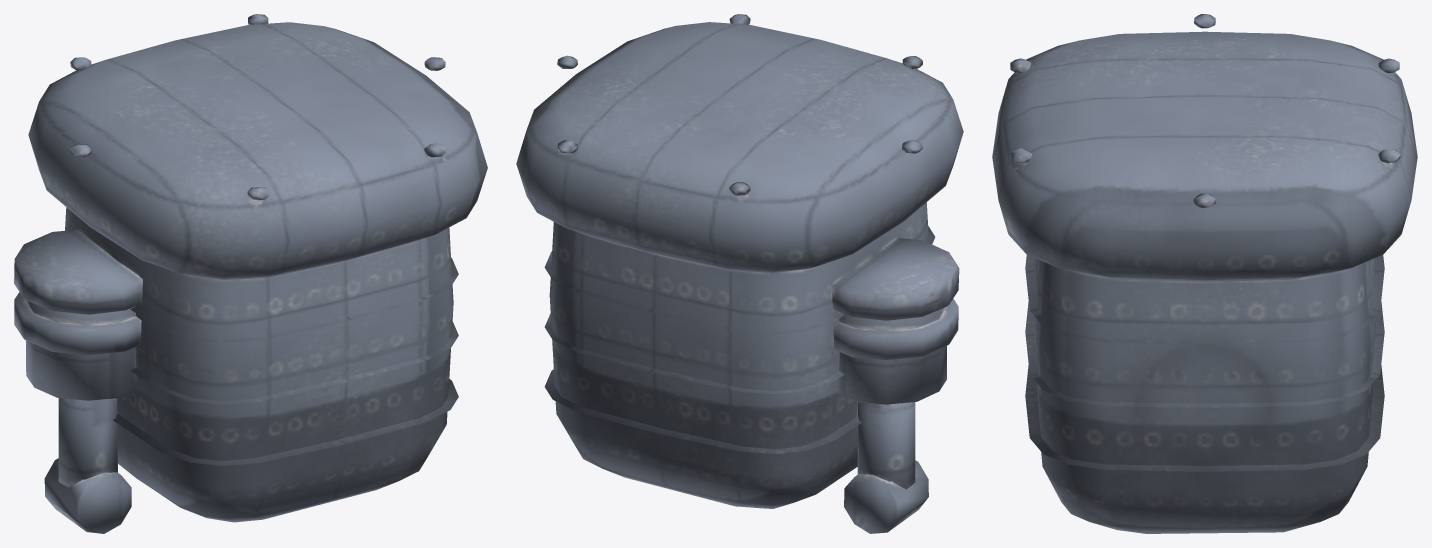
Rendered from MatonImp_BrazoArriba.fbx.
3 views of the same model, side by side, from view 1: azimuth 30°, elevation 25°; view 2: azimuth 150°, elevation 25°; view 3: azimuth 270°, elevation 25° (orthographic). The views are drawn at different scales.
Visible parts, largest first — view 1: MatonImp_BrazoArriba; view 2: MatonImp_BrazoArriba; view 3: MatonImp_BrazoArriba.
Boxes of the visible parts, x1=… form: MatonImp_BrazoArriba: x1=14, y1=14, x2=487, y2=533; MatonImp_BrazoArriba: x1=516, y1=14, x2=963, y2=533; MatonImp_BrazoArriba: x1=992, y1=14, x2=1417, y2=533.
Size of the model in its own units: 1.74 by 1.62 by 1.5.
